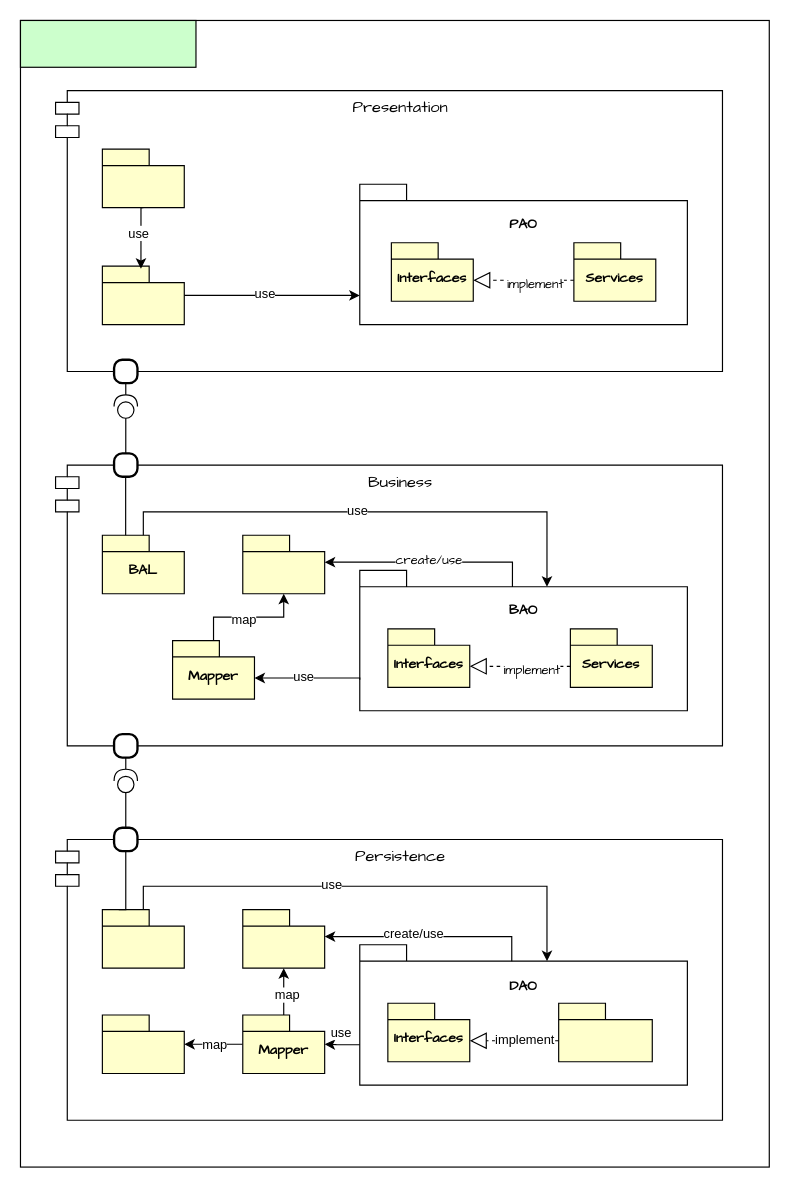
Some shapes in this 790 by 1188 pixel diagram are drawn without their labels. The centre of each missing label's shape, as x and y in pixels:
"Backend" goes at (107,43).
"BTO" goes at (283,564).
"Controller" goes at (142,178).
"DAL" goes at (142,938).
"DTO" goes at (283,938).
"Entities" goes at (142,1043).
"PAL" goes at (142,295).
"Repositories" goes at (605,1032).
